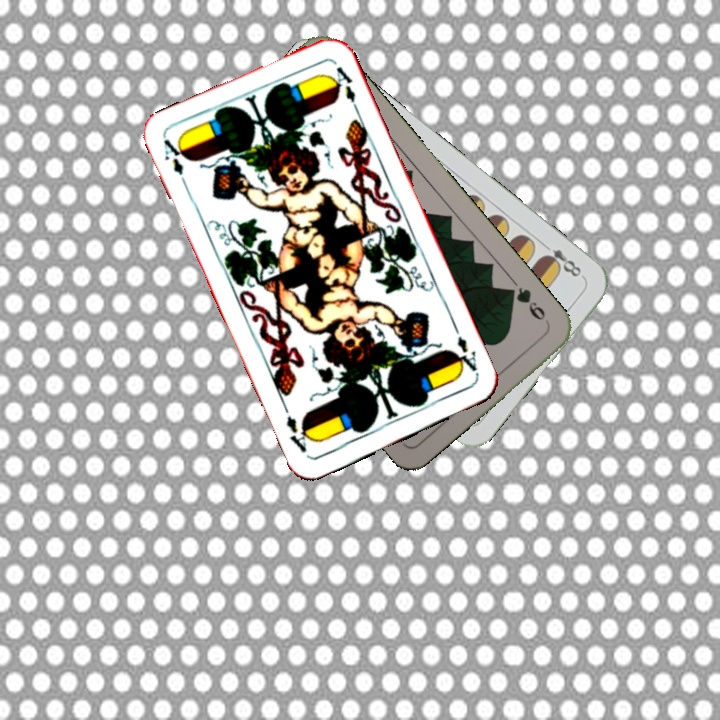E8: (538, 238, 584, 280)
EA: (159, 135, 191, 191), (448, 331, 482, 379)
G9: (502, 283, 548, 324)
